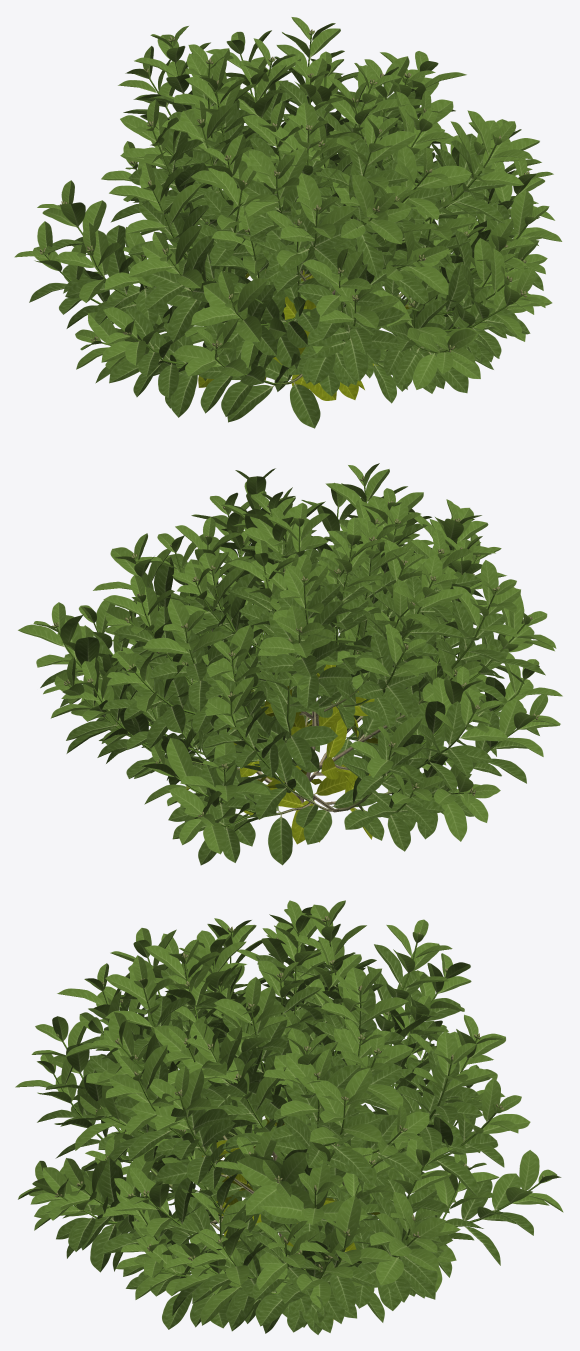
File: wild_plant_no_flower.glb
The picture shows the model from 3 angles, top to bottom: view 1: azimuth 30°, elevation 25°; view 2: azimuth 150°, elevation 25°; view 3: azimuth 270°, elevation 25°; orthographic projection. The views are drawn at different scales.
Parts seen in each view (by area): view 1: Ixora_chinensis_red_HD; view 2: Ixora_chinensis_red_HD; view 3: Ixora_chinensis_red_HD.
Part boxes in pixels (box(x1,y1,x2,y2)): Ixora_chinensis_red_HD: box(14, 17, 562, 428); Ixora_chinensis_red_HD: box(18, 463, 562, 865); Ixora_chinensis_red_HD: box(15, 900, 563, 1334).
Bounding box in the file's own units: 1.28 × 0.8317 × 1.18.
7 materials, 7 textured.
